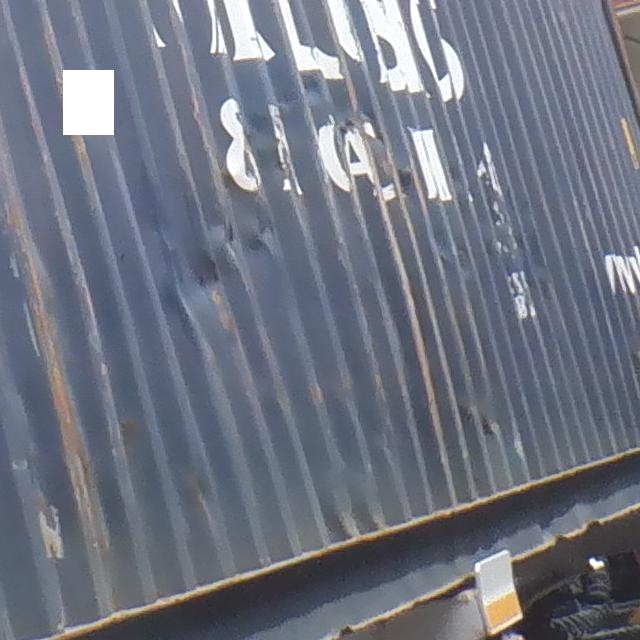Dent: (132, 149, 296, 354)
